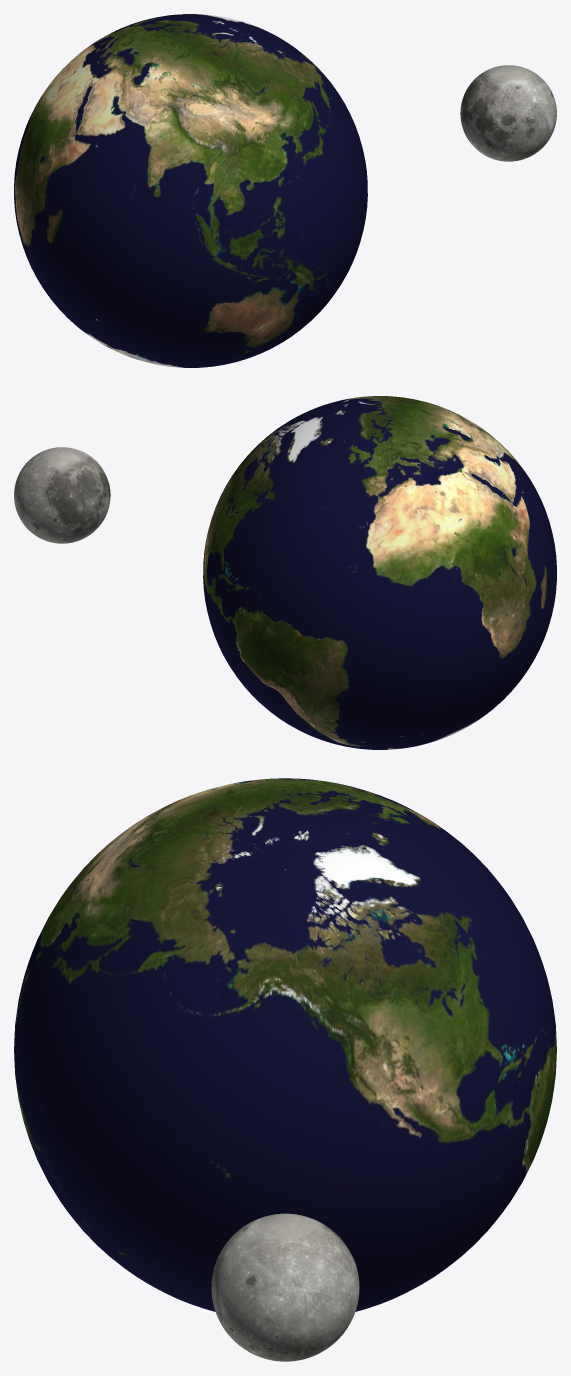
File: earth_moon_size.glb
The picture shows the model from 3 angles, top to bottom: view 1: azimuth 30°, elevation 25°; view 2: azimuth 150°, elevation 25°; view 3: azimuth 270°, elevation 25°; orthographic projection. The views are drawn at different scales.
Parts seen in each view (by area): view 1: Earth, Moon; view 2: Earth, Moon; view 3: Earth, Moon.
Part boxes in pixels (x1,y1,x2,y2): Earth: [14, 14, 367, 367]; Moon: [460, 65, 556, 161]; Earth: [203, 396, 556, 749]; Moon: [14, 447, 110, 543]; Earth: [14, 778, 556, 1311]; Moon: [211, 1213, 359, 1361].
Size of the model in its own units: 3.35 by 2 by 2.
Materials: 2 (2 with a texture image).
